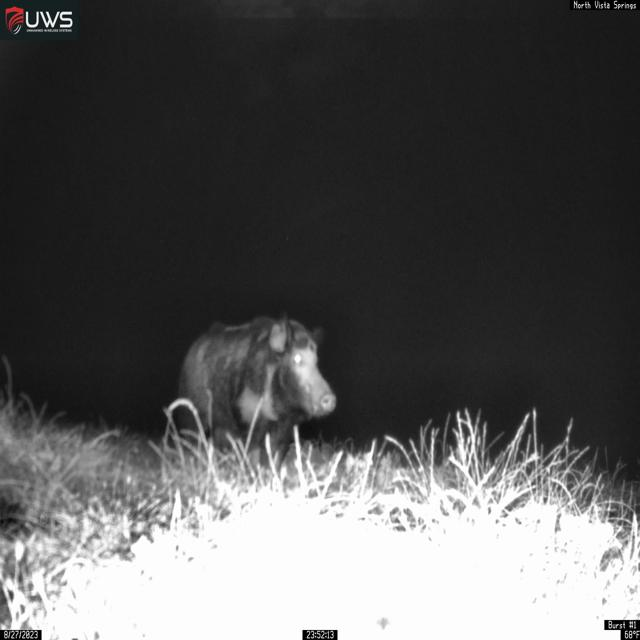pig: (177, 311, 338, 477)
